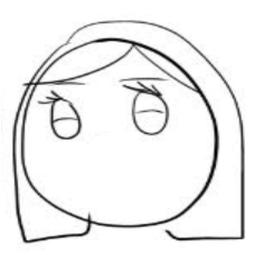eye: (34, 88, 83, 143), (124, 81, 171, 137)
eyebrow: (113, 72, 167, 83), (52, 79, 89, 88)
